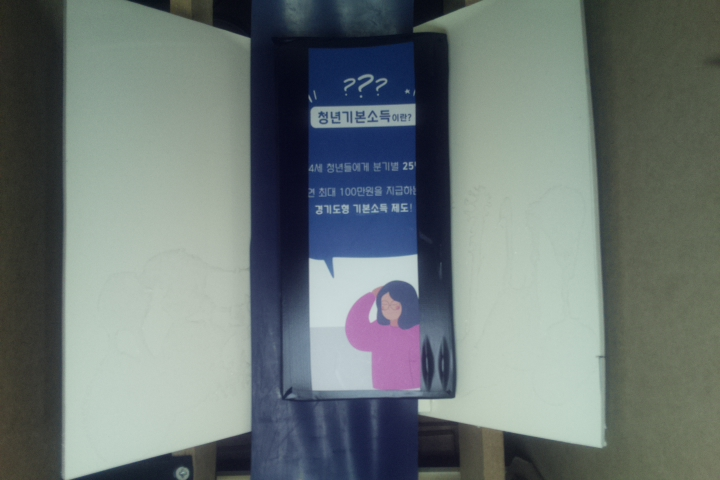book: (275, 29, 455, 403)
